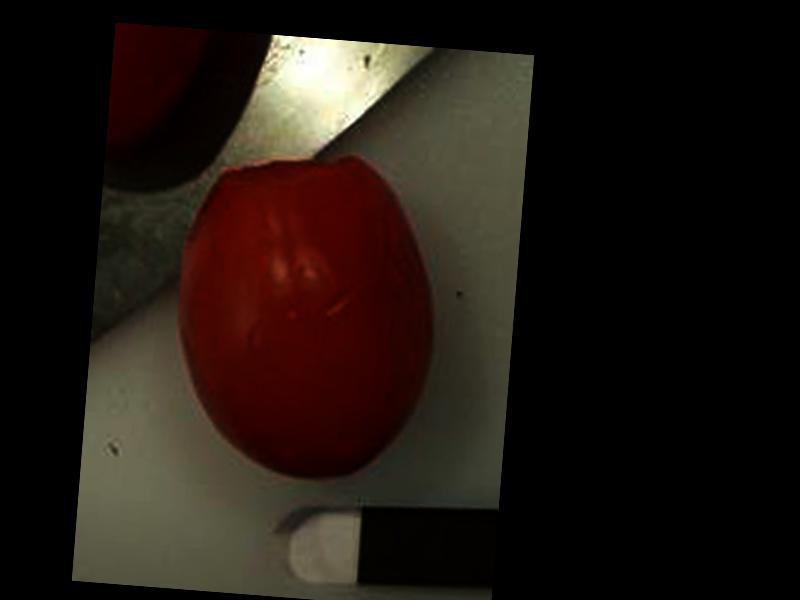Tomato: (163, 144, 446, 487)
